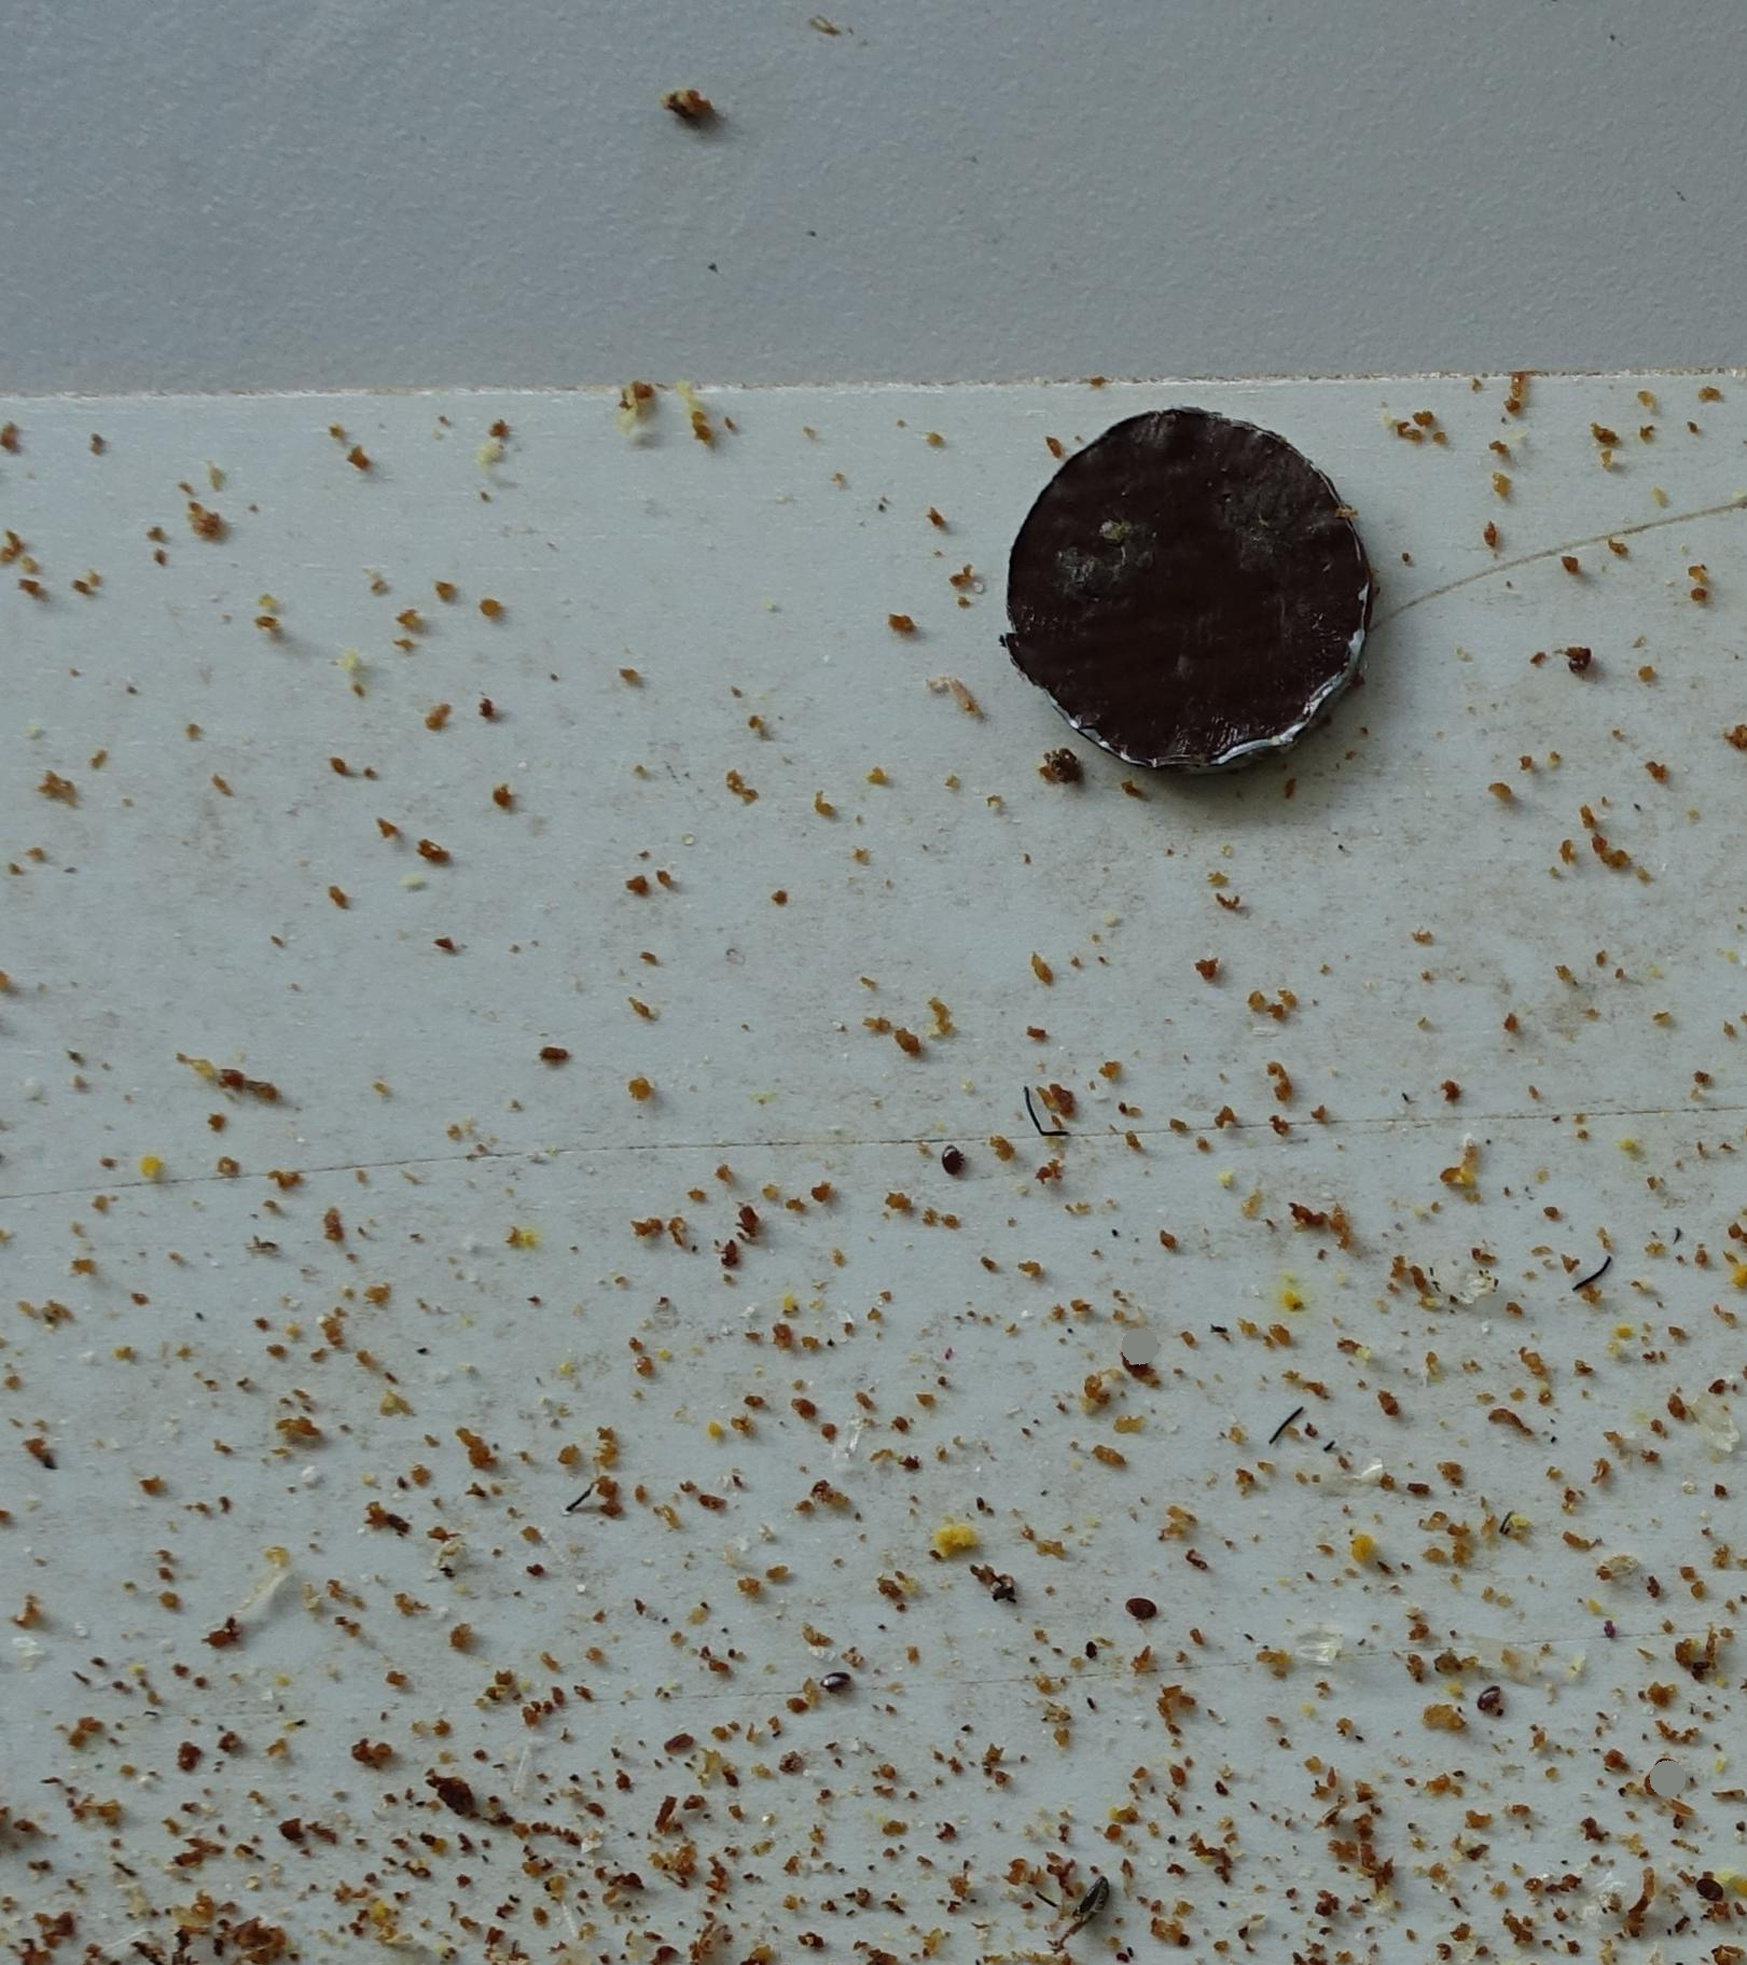Varroa: (1044, 746, 1084, 786), (1476, 1680, 1504, 1709), (823, 1660, 853, 1687), (1567, 648, 1595, 675), (1696, 1877, 1722, 1904), (1135, 1594, 1155, 1614), (944, 1149, 965, 1167)
